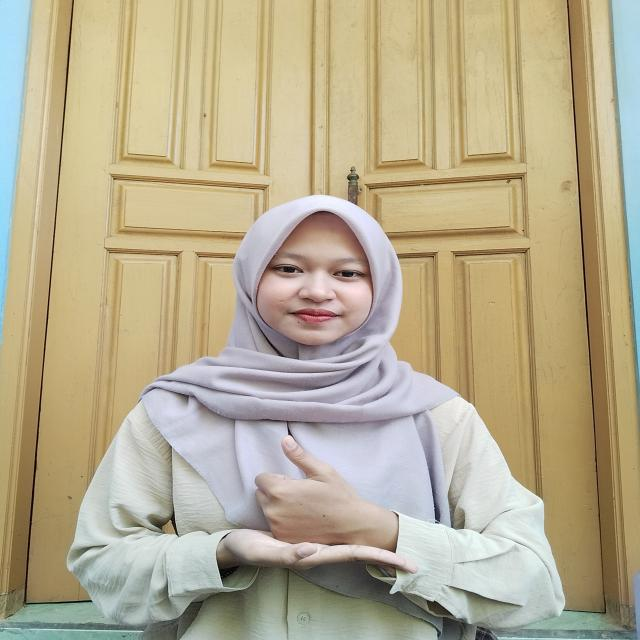cantik: (227, 437, 430, 594)
